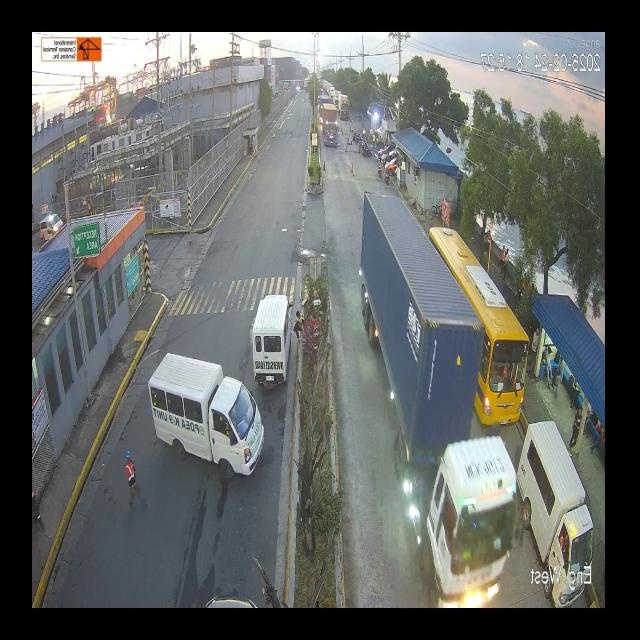bus: (435, 232, 525, 418)
car: (147, 363, 259, 481), (529, 433, 595, 556), (250, 291, 293, 389)
truck: (118, 186, 508, 605), (321, 103, 337, 148), (336, 87, 349, 119)
